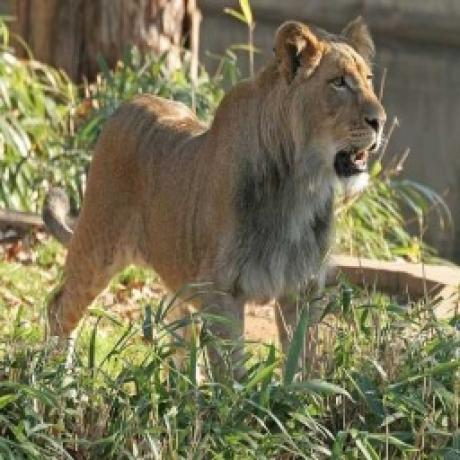Lion: (44, 14, 390, 396)
